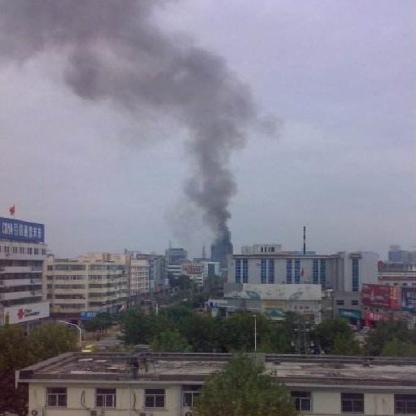smoke: (3, 2, 150, 78), (150, 32, 244, 136), (183, 141, 238, 252), (69, 80, 150, 113)
